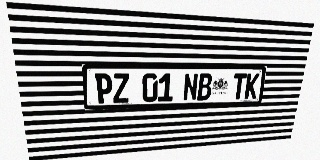0: (142, 73, 158, 102)
1: (158, 73, 174, 102)
B: (197, 73, 213, 100)
K: (244, 73, 260, 99)
N: (183, 73, 198, 101)
P: (95, 73, 113, 104)
T: (231, 73, 247, 99)
Z: (113, 73, 130, 103)
